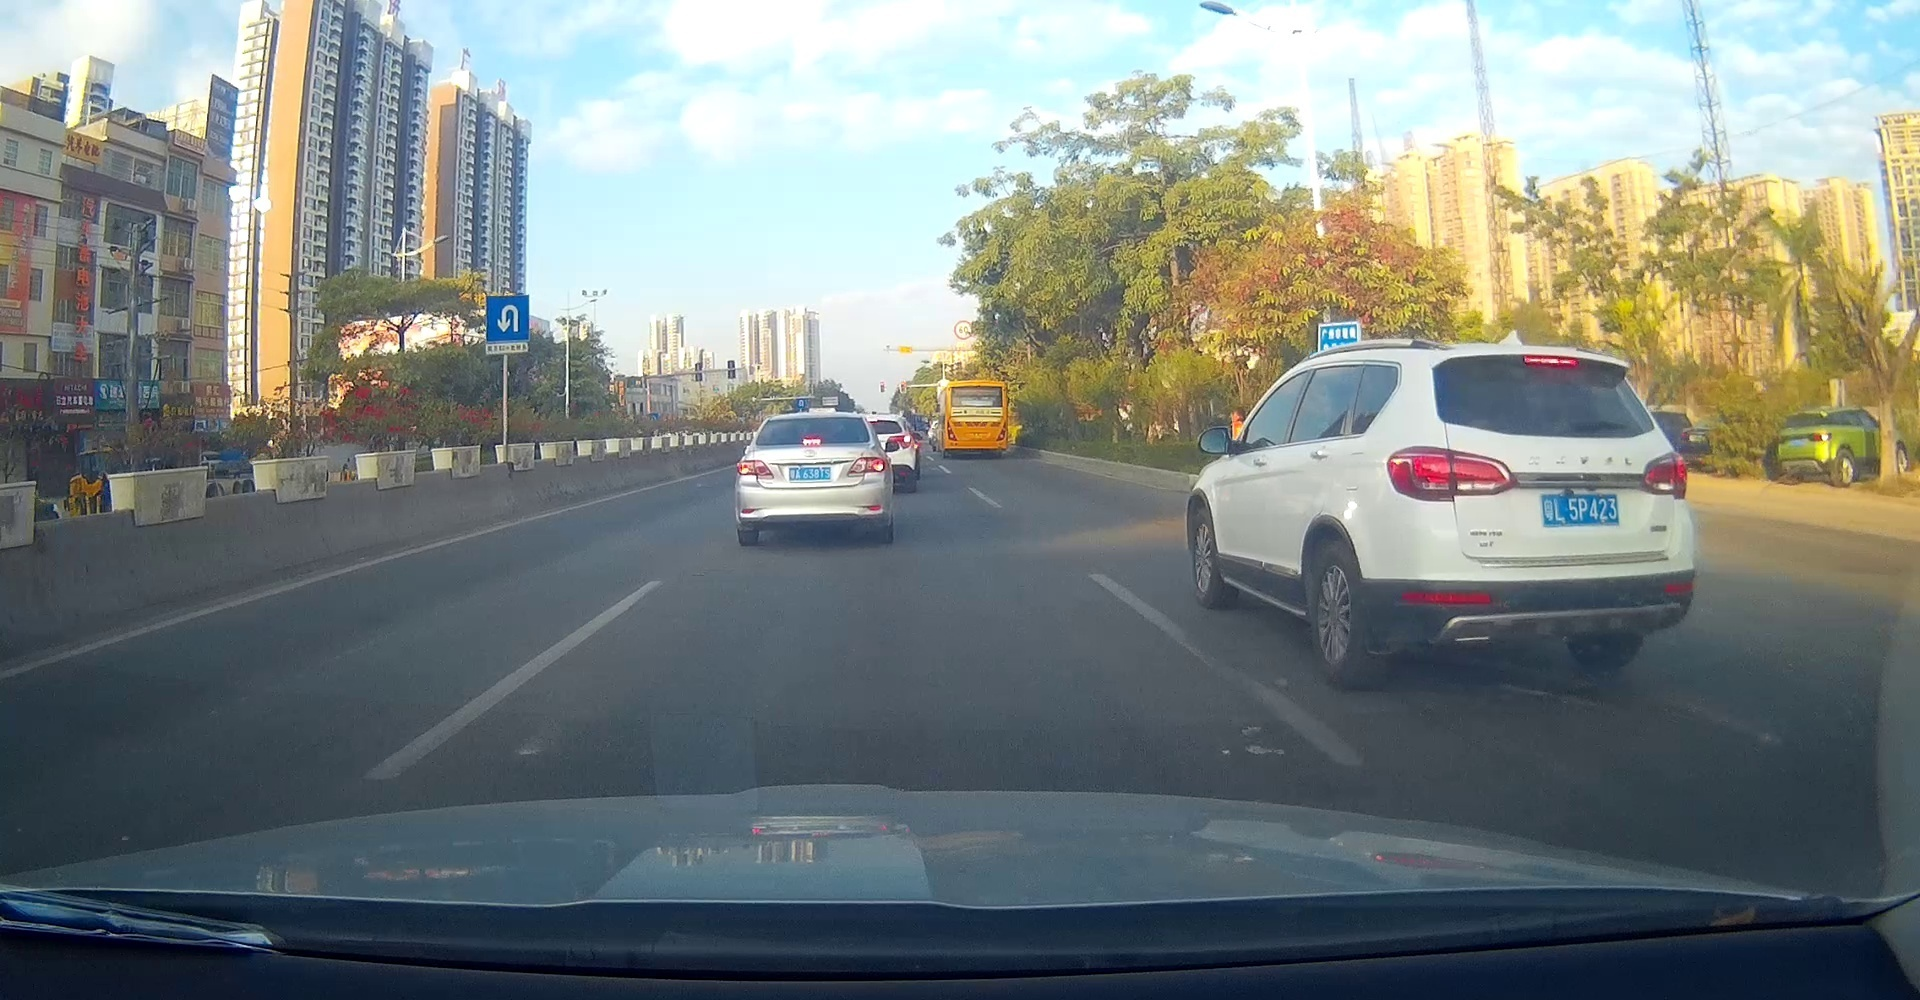L_light: (1385, 445, 1516, 503), (735, 459, 772, 476), (947, 420, 957, 442), (1777, 435, 1785, 444)
R_light: (1641, 452, 1688, 499), (848, 457, 886, 475), (996, 423, 1007, 442), (1812, 433, 1831, 442)
T_light: (1523, 354, 1578, 368), (803, 438, 822, 445), (971, 386, 985, 390), (1798, 414, 1808, 418)
day-brake: (1384, 344, 1695, 690), (735, 412, 886, 546)
day-no: (943, 379, 1008, 459), (1542, 492, 1618, 527), (789, 467, 830, 481)
day-right: (1778, 409, 1832, 489)
